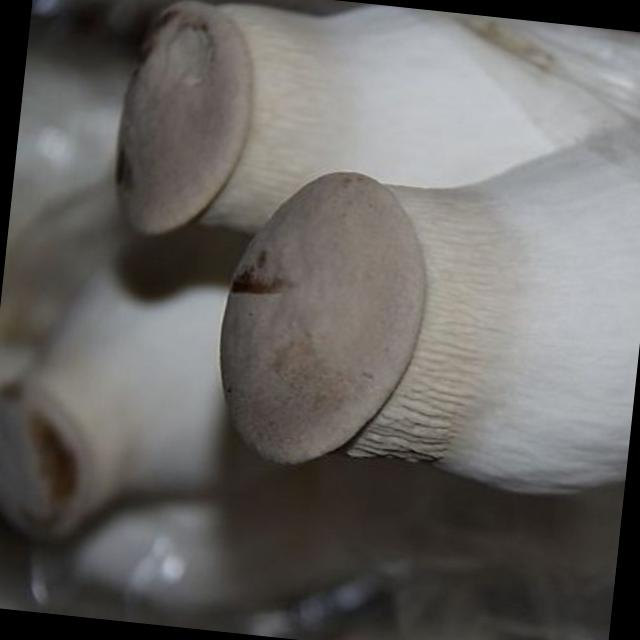Pleurotus eryngii: (205, 80, 640, 507), (112, 0, 640, 285)
